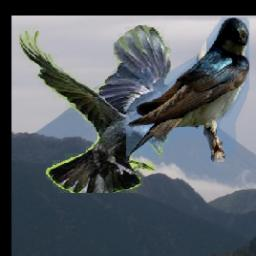Crow: (16, 24, 171, 193)
Swallow: (127, 18, 250, 163)
